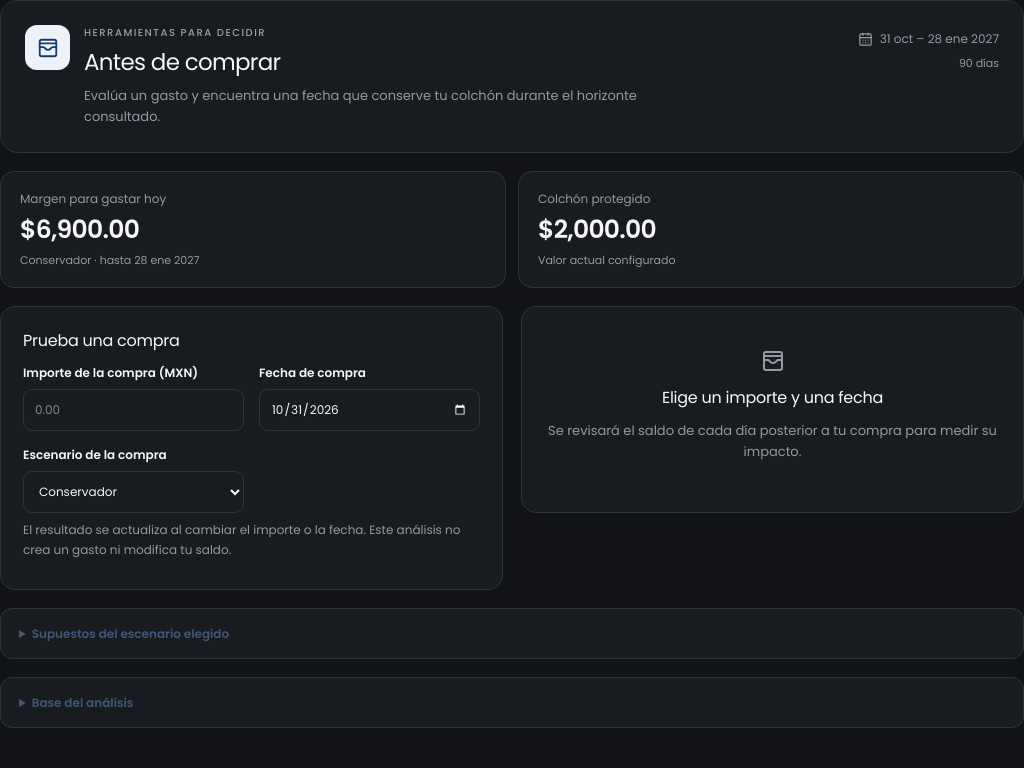
Scenario: Finance decision tools › recommends a later purchase date and lets the user evaluate it without creating a transaction
The image size is (1024, 768).
Type "9000" into the number field labelled "Importe de la compra (MXN)".
click(134, 410); type("9000")  # box [23, 389, 244, 431]
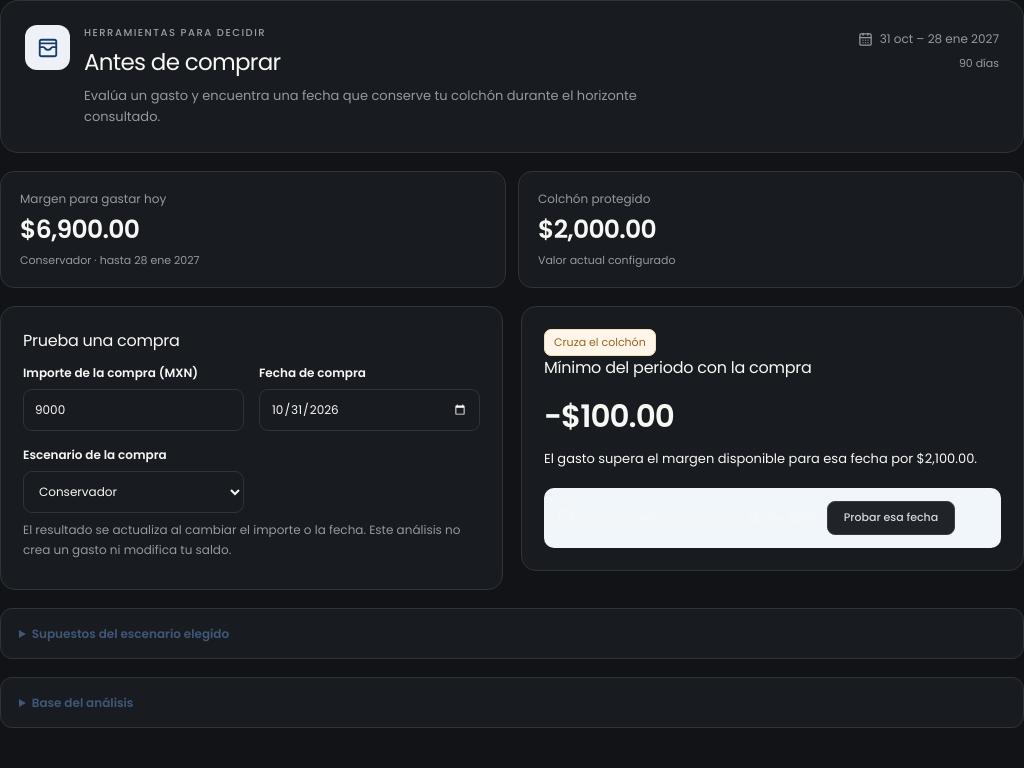
Check: the text "Cruza el colchón" is shown, box [544, 329, 656, 356]
Click the button "Probar esa fecha".
click(891, 518)  # box [827, 501, 955, 535]
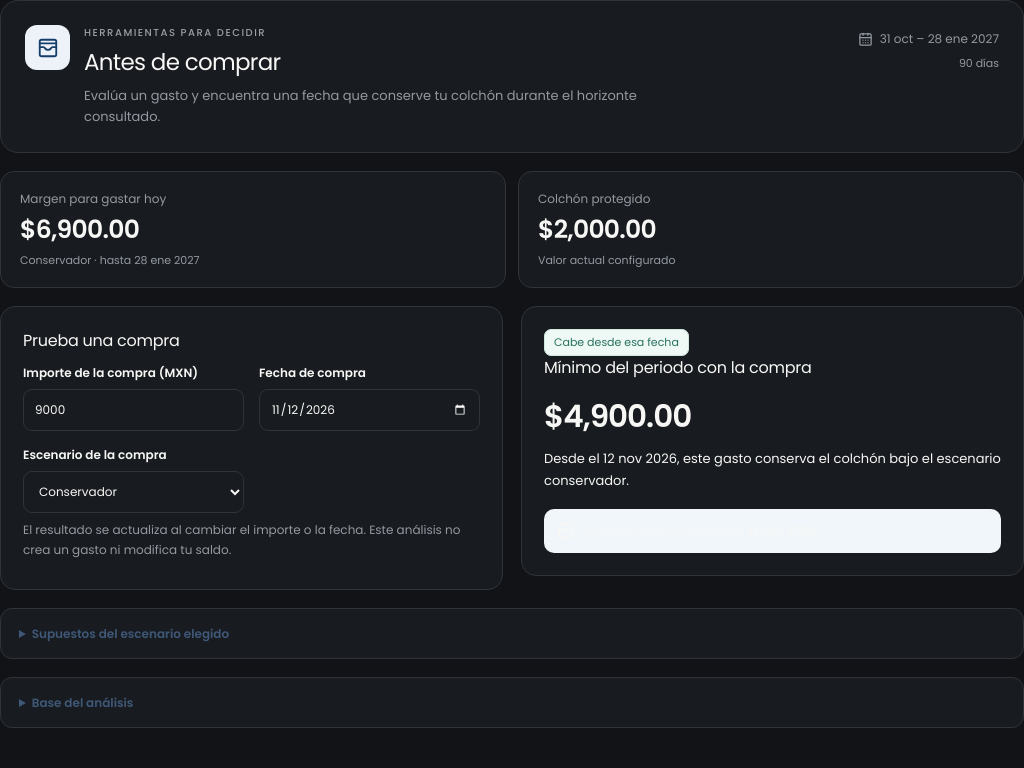
Check: the date field labelled "Fecha de compra" holds "2026-11-12", box [259, 389, 480, 431]
Check: the text "Cabe desde esa fecha" is shown, box [544, 329, 689, 356]
